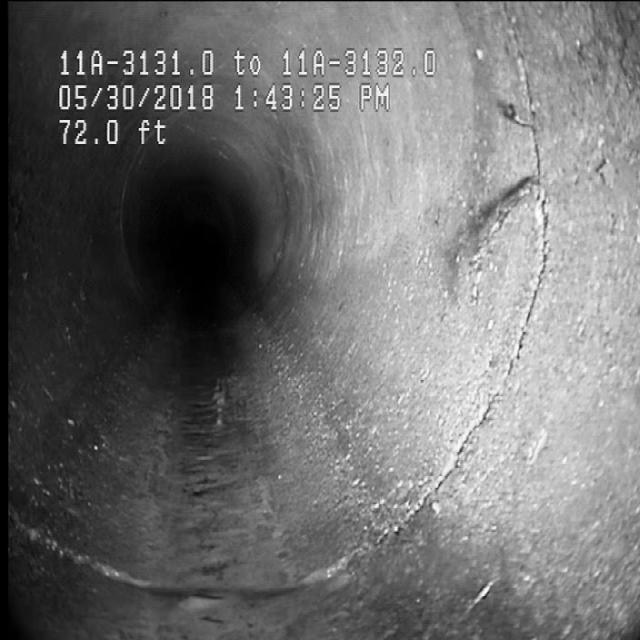Crack: (455, 4, 569, 552)
